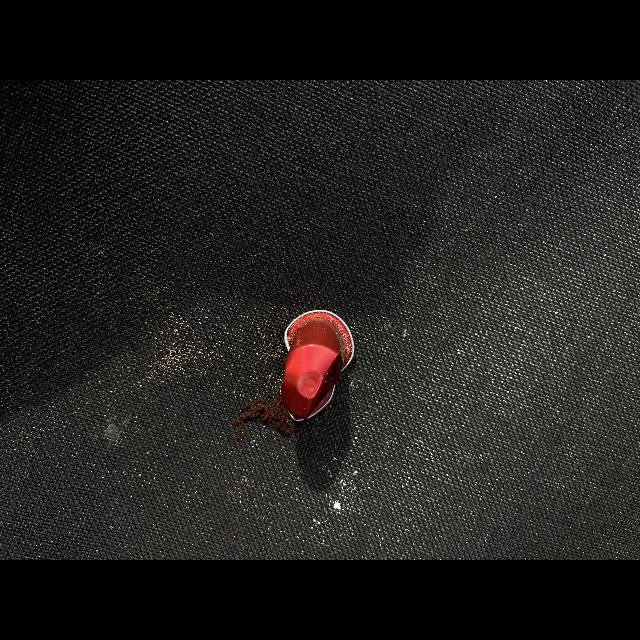damaged_capsule: (264, 303, 364, 429)
